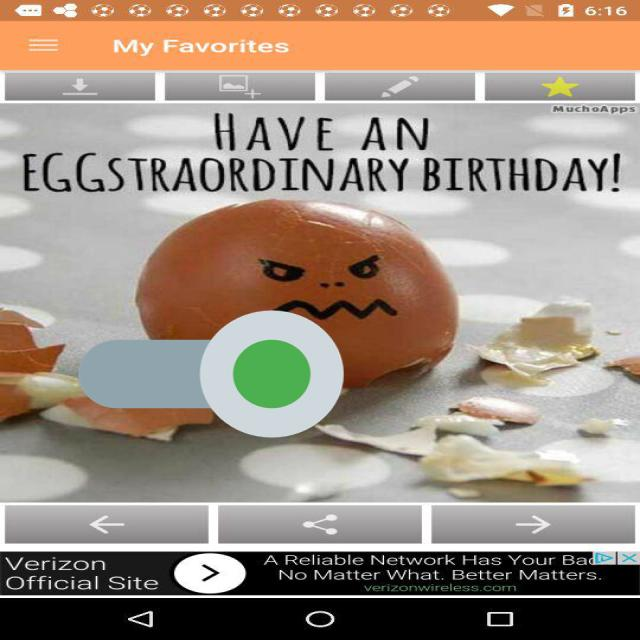social proof: (78, 257, 344, 491)
